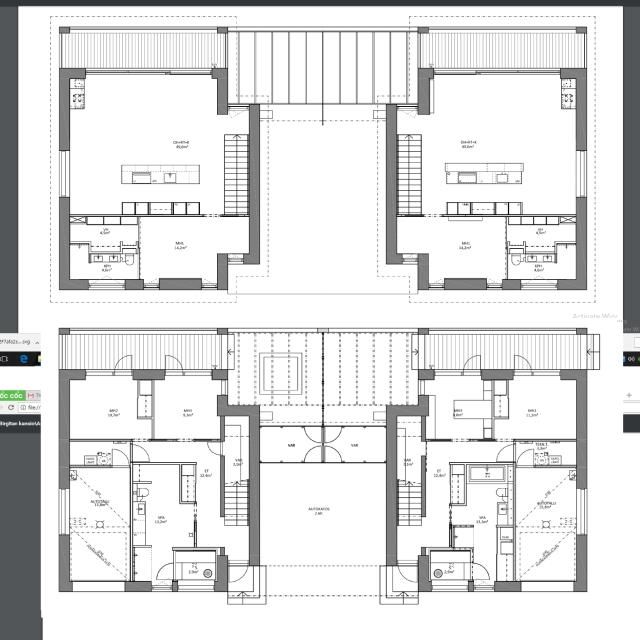door: (397, 560, 417, 586), (463, 352, 481, 380), (115, 353, 132, 380), (514, 353, 531, 380), (229, 560, 248, 584), (166, 354, 182, 381), (324, 444, 342, 464), (470, 563, 491, 580), (112, 448, 129, 468), (130, 445, 150, 462), (496, 445, 516, 462), (517, 449, 534, 468), (304, 445, 321, 463), (157, 564, 176, 580), (325, 426, 341, 444), (305, 426, 321, 444), (207, 443, 225, 455)
